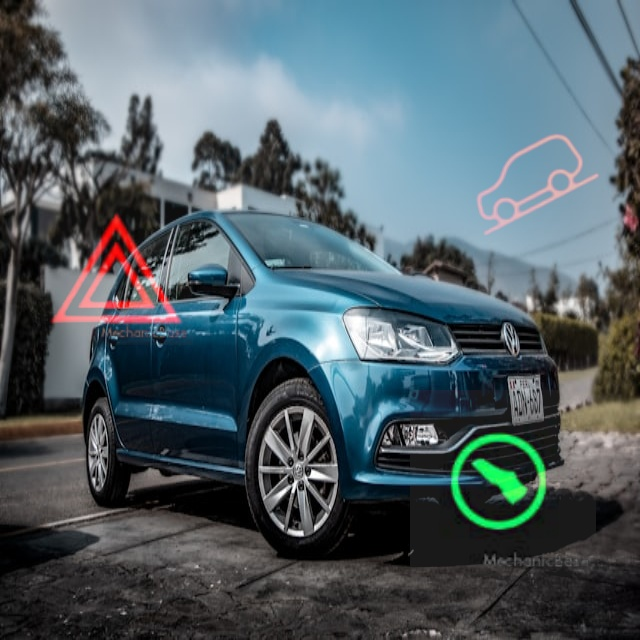symbol: (410, 390, 596, 576), (458, 107, 619, 268), (42, 194, 193, 345)
